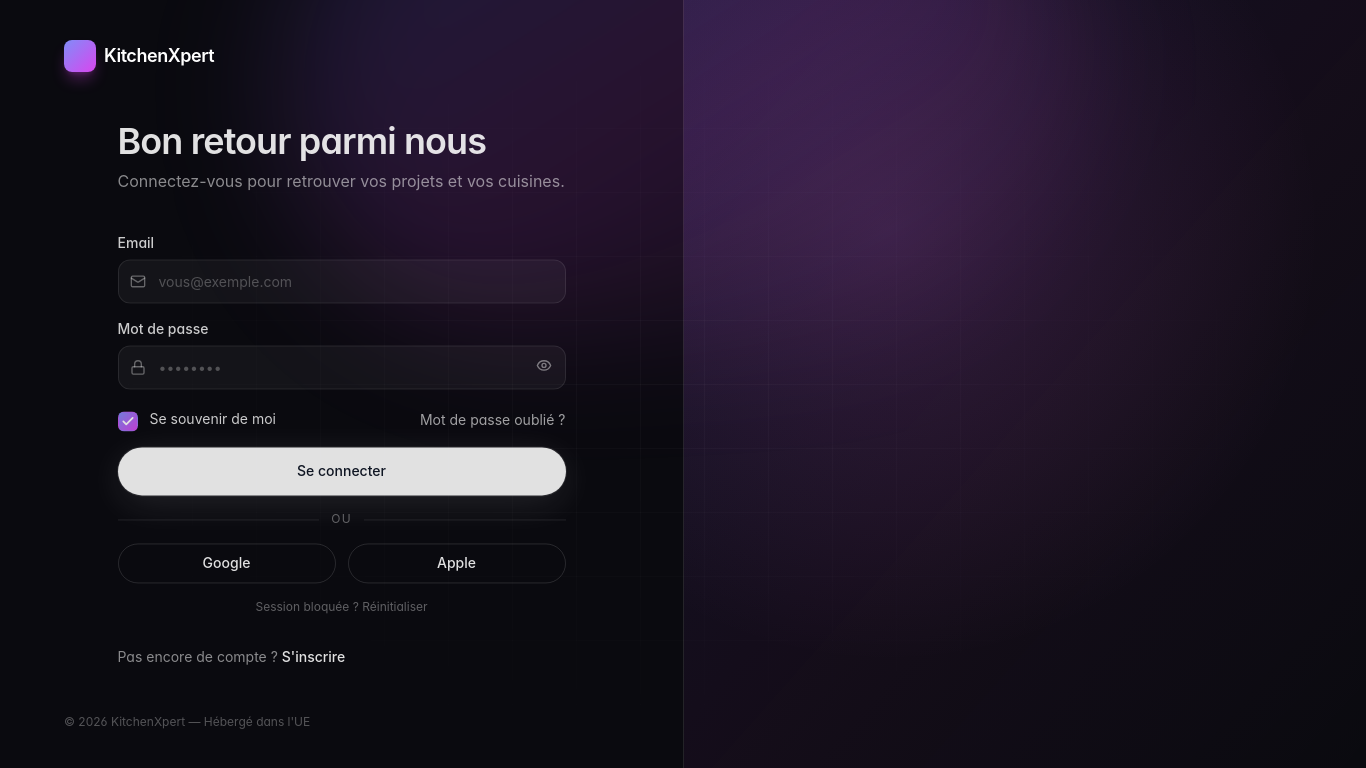
Scenario: LoginPage › Form Submission › should disable submit button while loading
Type "test@example.com" into the field labelled "Email" at (342, 282), box [118,260,566,304]
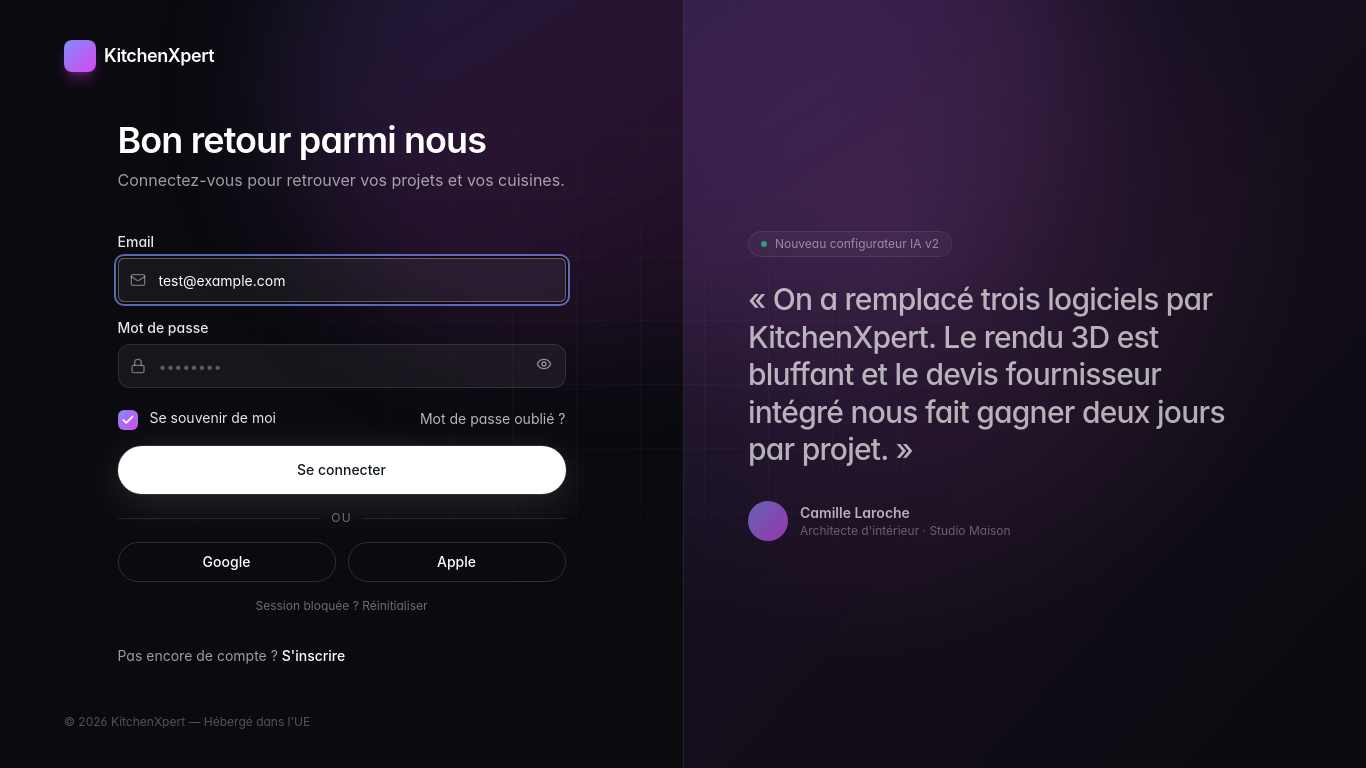
Type "password123" into the password field labelled "Mot de passe" at (342, 366), box [118,344,566,388]
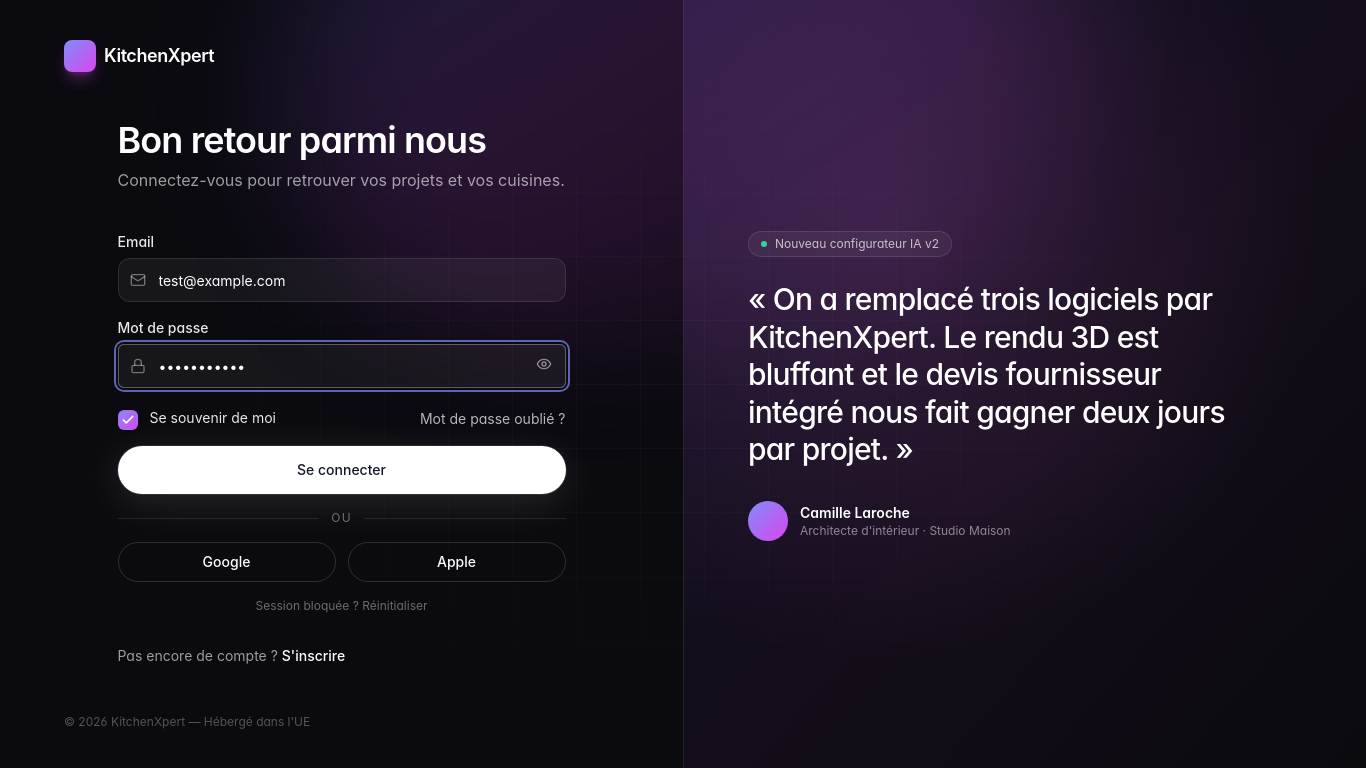
Click the button "Se connecter" at (342, 470), box [118,446,566,494]
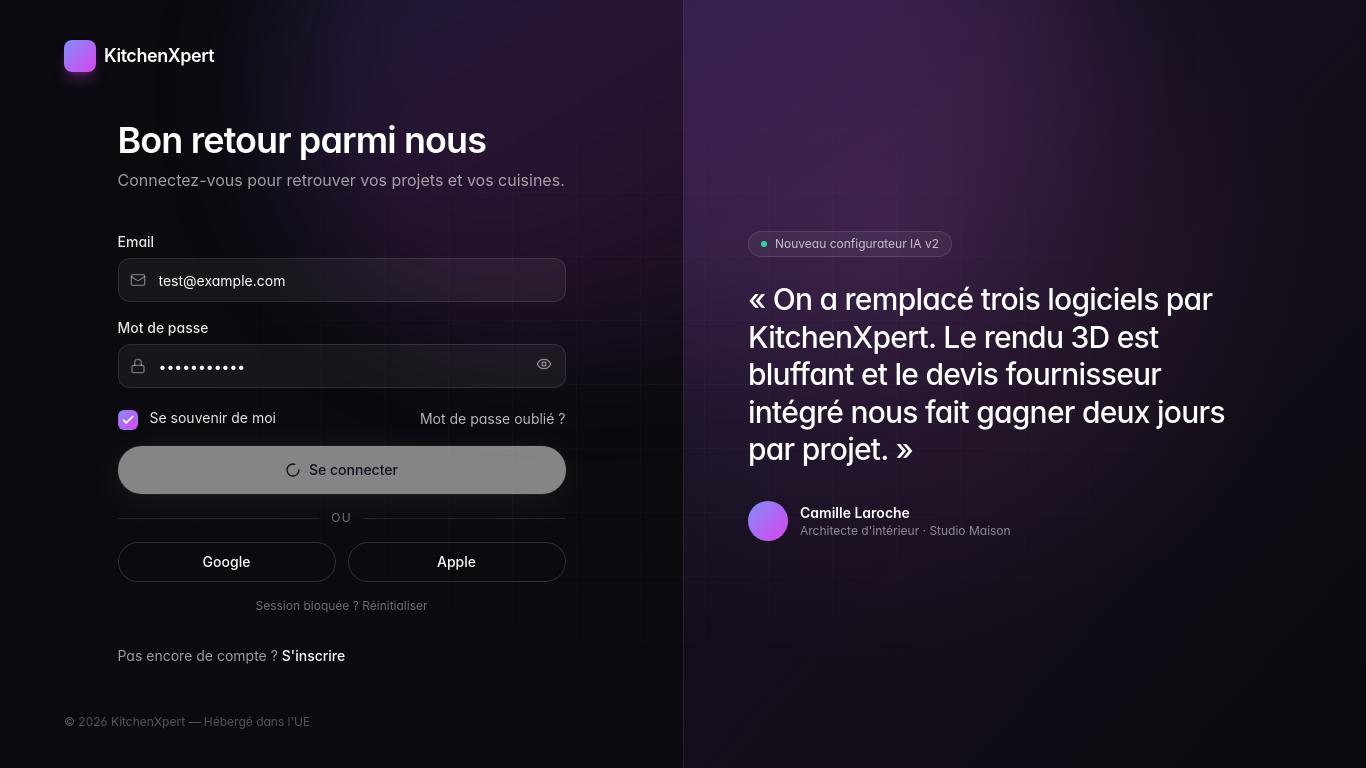
Result: the button "Se connecter" is disabled at [118,446,566,494]
